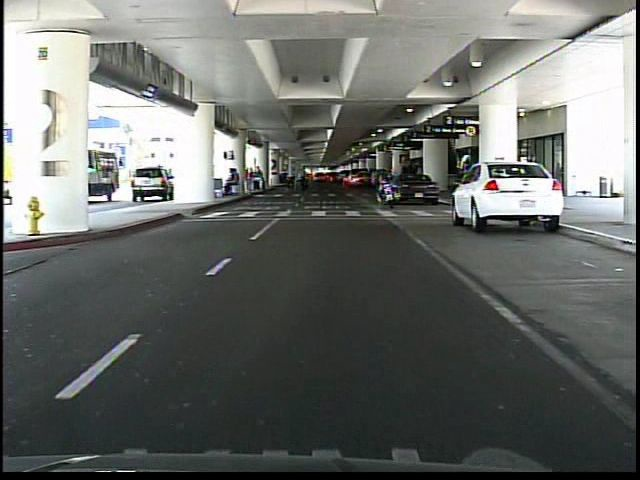person: (454, 151, 475, 224)
